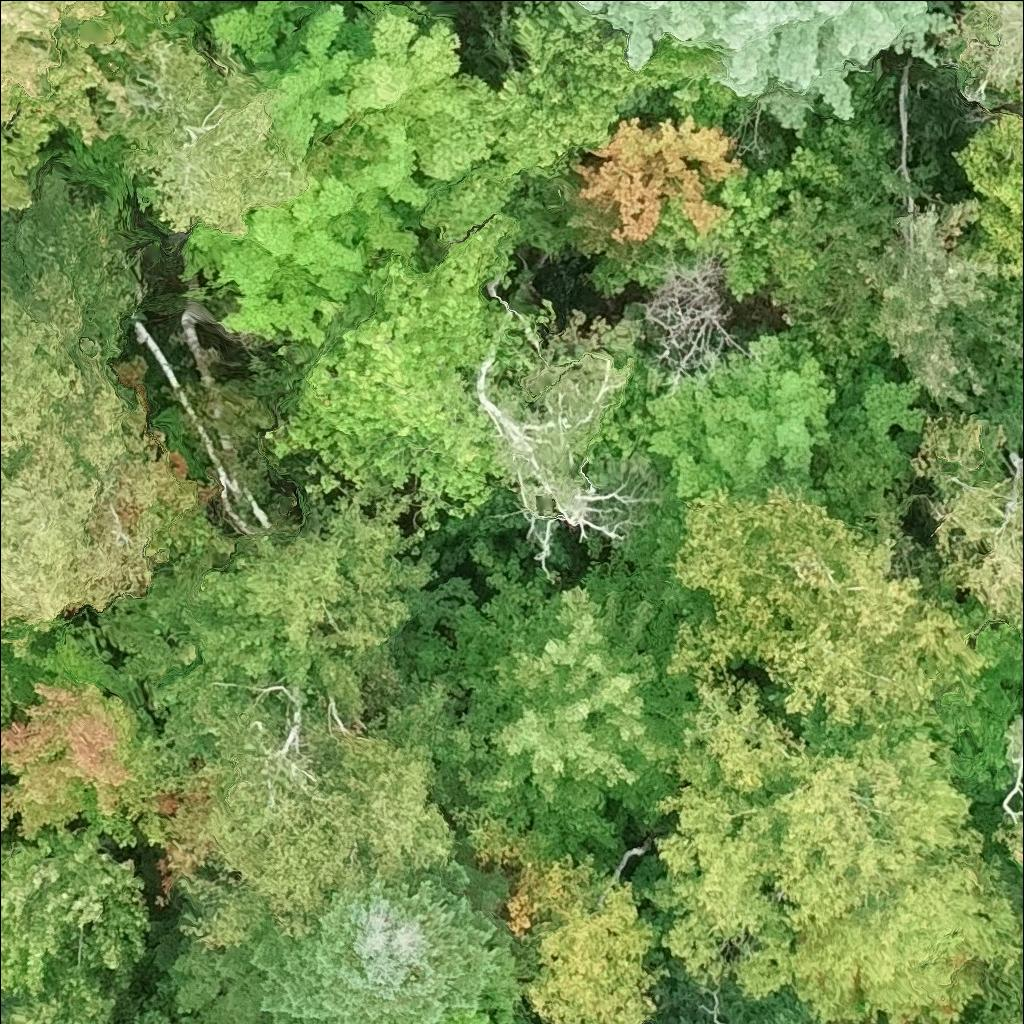crown: (639, 671, 1023, 1023), (0, 161, 201, 635), (661, 481, 991, 753), (266, 211, 536, 537), (179, 0, 430, 346), (442, 553, 703, 872), (177, 699, 459, 946), (153, 861, 533, 1023), (533, 0, 962, 142), (644, 334, 933, 529), (330, 0, 531, 242), (103, 27, 310, 240), (0, 0, 193, 213), (0, 670, 167, 846), (505, 851, 672, 1023), (490, 0, 644, 181), (0, 829, 153, 1005), (648, 163, 828, 304), (908, 411, 1023, 631), (570, 111, 751, 244), (763, 103, 925, 208), (632, 250, 743, 374), (0, 924, 134, 1023), (950, 111, 1023, 267), (177, 0, 226, 55), (961, 980, 1023, 1023), (992, 370, 1023, 455), (0, 649, 20, 727), (1004, 964, 1023, 1001), (442, 1013, 504, 1023), (1017, 880, 1023, 900)
